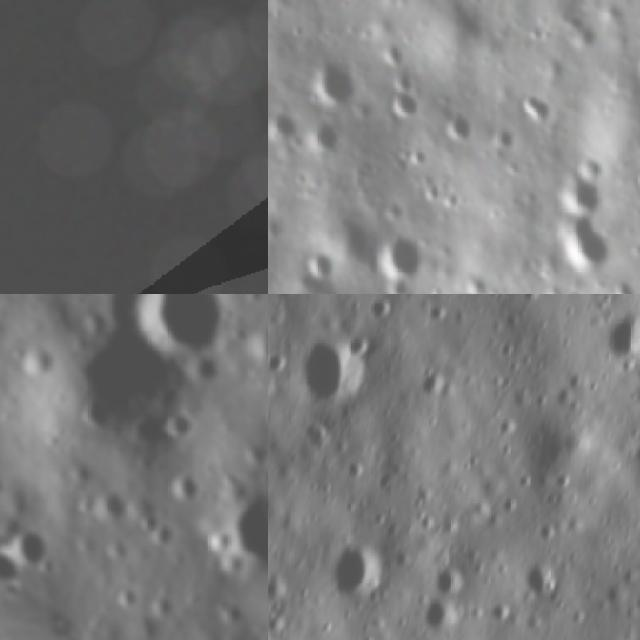crater: (116, 294, 261, 405), (286, 316, 378, 426), (208, 484, 268, 593), (315, 540, 392, 616), (4, 518, 63, 580), (518, 554, 568, 612), (312, 53, 357, 112), (559, 216, 610, 268), (596, 306, 640, 366), (558, 163, 604, 217), (421, 558, 472, 603), (381, 234, 425, 280), (412, 594, 460, 635), (520, 86, 558, 132), (412, 363, 454, 404), (300, 244, 338, 284), (304, 118, 339, 158), (446, 107, 481, 147), (483, 600, 516, 639), (619, 431, 640, 492), (383, 93, 427, 121), (268, 565, 292, 604), (610, 274, 639, 294)
